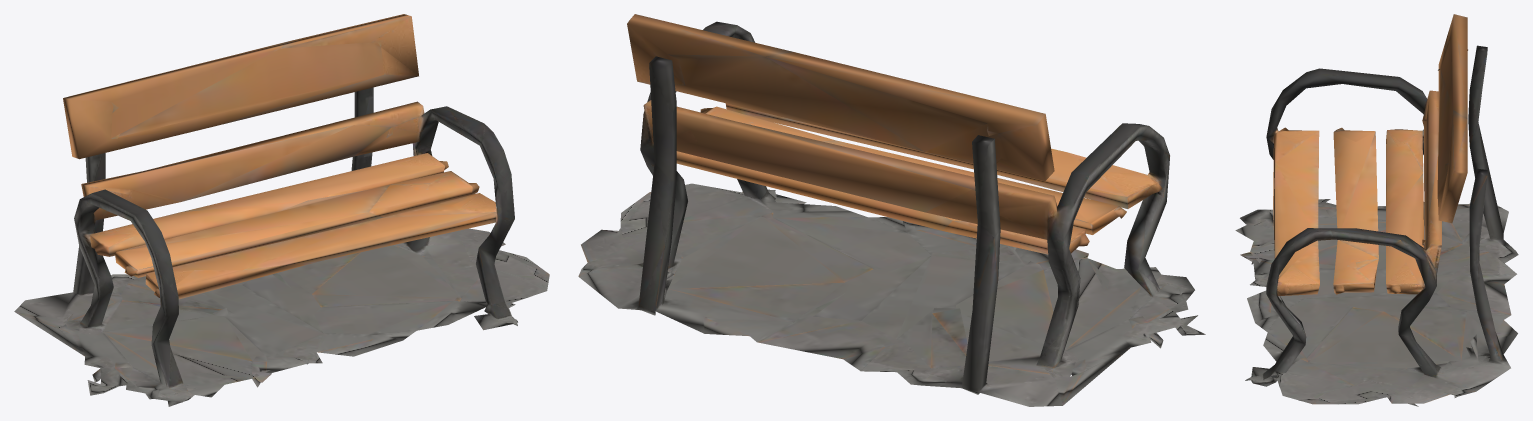
The picture shows the model from 3 angles, left to right: view 1: azimuth 30°, elevation 25°; view 2: azimuth 150°, elevation 25°; view 3: azimuth 270°, elevation 25°; orthographic projection. The views are drawn at different scales.
Size of the model in its own units: 1.89 by 0.9051 by 1.07.
Materials: 1 (1 with a texture image).
